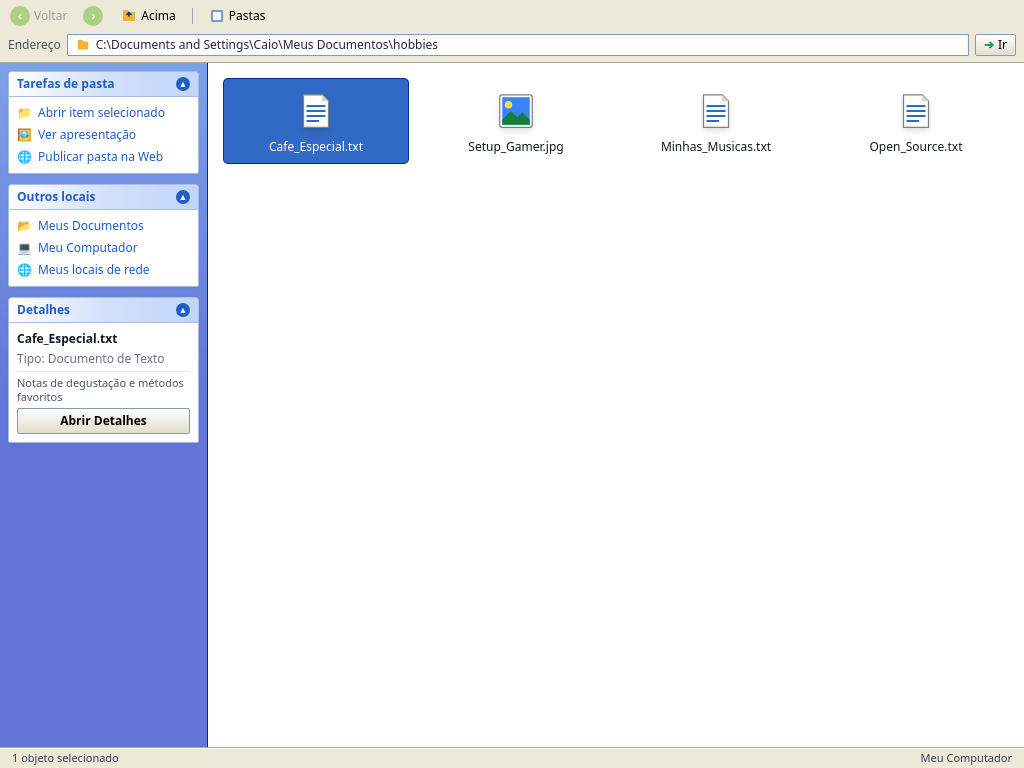
Test: Windows XP Portfolio Applications › ExplorerFolderApp › selects hobby item on click and updates sidebar details
The image size is (1024, 768).
Click the element with test id "hobby-item-setup".
click(516, 123)  # box [468, 91, 564, 155]
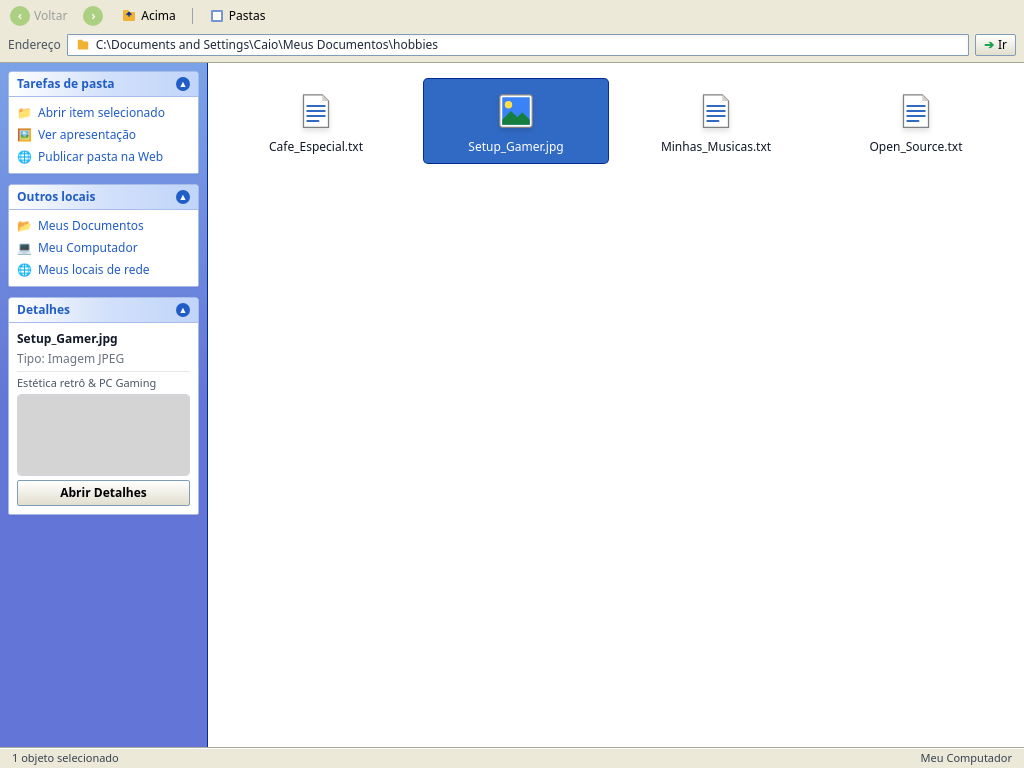
Result: the element with test id "sidebar-details" shows "Setup_Gamer.jpg" at [17, 330, 118, 347]
Result: the element with test id "sidebar-details" shows "Estética retrô & PC Gaming" at [17, 375, 156, 390]
